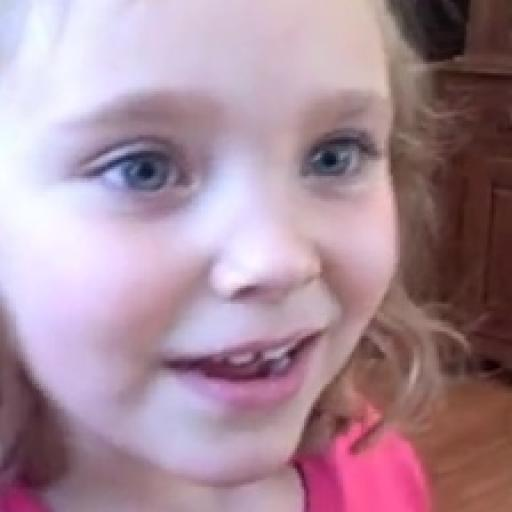Autism: (5, 0, 402, 510)
